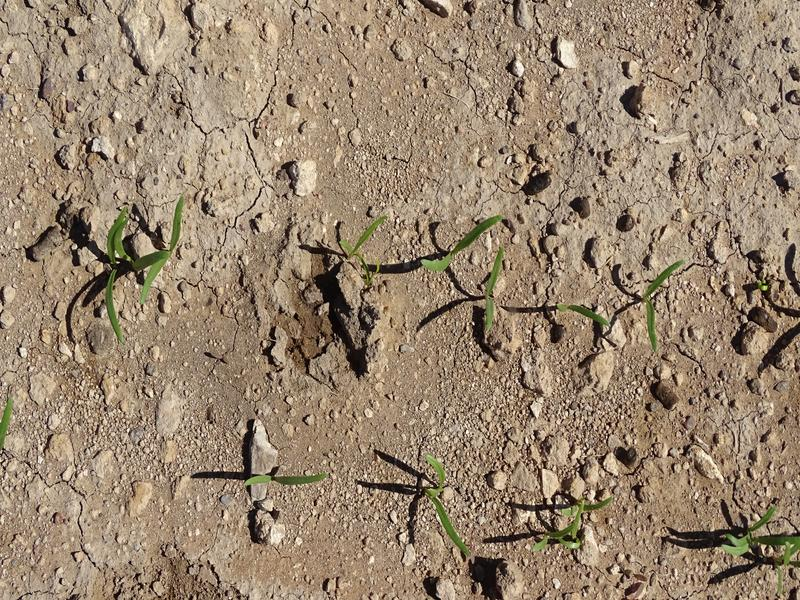Espinaca: (95, 202, 181, 325), (416, 208, 498, 275), (421, 453, 470, 554), (530, 495, 616, 551), (721, 515, 798, 575), (635, 258, 678, 356), (329, 214, 378, 277), (481, 252, 508, 332), (238, 470, 333, 491), (555, 296, 607, 325)
